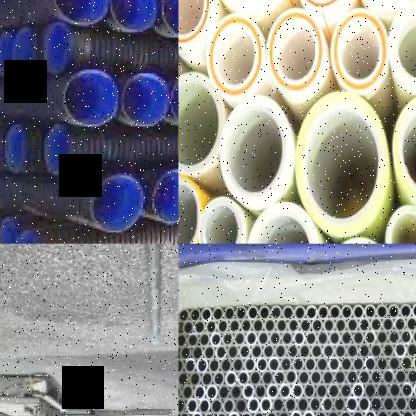pipe: (294, 90, 388, 235), (220, 95, 291, 198), (331, 7, 387, 95), (178, 70, 224, 174), (207, 13, 263, 97), (266, 9, 322, 91), (88, 172, 148, 234), (62, 68, 122, 130), (246, 202, 321, 244), (119, 70, 172, 127), (387, 0, 416, 92), (392, 94, 416, 204), (198, 197, 242, 244), (41, 20, 77, 77), (41, 128, 77, 180), (0, 122, 34, 176), (148, 166, 178, 226), (107, 0, 159, 33), (178, 174, 202, 244), (47, 0, 107, 27), (178, 0, 211, 44), (11, 26, 40, 76), (385, 205, 416, 244), (159, 0, 178, 40), (0, 30, 15, 77), (0, 214, 24, 243), (14, 226, 48, 244), (168, 72, 178, 126), (308, 396, 322, 414), (183, 357, 197, 375), (399, 302, 413, 320), (345, 396, 359, 413), (357, 396, 371, 413), (382, 396, 396, 413), (297, 369, 311, 386), (279, 356, 293, 373), (369, 342, 383, 359), (259, 396, 272, 414), (272, 396, 285, 414), (321, 396, 334, 414), (315, 382, 328, 400), (250, 343, 263, 361), (248, 396, 260, 415), (363, 356, 377, 372), (304, 330, 318, 346), (333, 396, 346, 413), (254, 383, 267, 400), (376, 382, 389, 399), (388, 382, 401, 399), (394, 368, 407, 385), (388, 355, 401, 372), (400, 355, 413, 372), (274, 343, 287, 360), (346, 343, 359, 360), (262, 343, 275, 360), (235, 397, 247, 415), (297, 396, 309, 414), (284, 396, 296, 414), (395, 395, 407, 413), (194, 384, 206, 402), (291, 382, 303, 400), (340, 382, 352, 400), (340, 355, 352, 373), (382, 315, 394, 333), (303, 383, 316, 399), (186, 398, 198, 415), (198, 398, 210, 415), (210, 398, 222, 415), (370, 396, 382, 413), (182, 384, 194, 401), (206, 384, 218, 401), (218, 384, 230, 401), (266, 383, 278, 400), (279, 383, 291, 400), (364, 382, 376, 399), (188, 371, 200, 388), (237, 370, 249, 387), (250, 370, 262, 387), (334, 369, 346, 386), (358, 369, 370, 386), (370, 368, 382, 385), (382, 368, 394, 385), (220, 357, 232, 374), (196, 357, 208, 374), (244, 356, 256, 373), (256, 356, 268, 373), (268, 356, 280, 373), (292, 356, 304, 373), (304, 356, 316, 373), (316, 356, 328, 373), (328, 356, 340, 373), (376, 355, 388, 372), (192, 345, 204, 362), (227, 344, 239, 361), (238, 344, 250, 361), (286, 343, 298, 360), (299, 343, 311, 360), (310, 343, 322, 360), (358, 343, 370, 360), (186, 332, 198, 349), (210, 331, 222, 348), (222, 331, 234, 348), (258, 330, 270, 347), (270, 330, 282, 347), (281, 330, 293, 347), (294, 330, 306, 347), (316, 330, 328, 347), (376, 329, 388, 346), (388, 329, 400, 346), (311, 317, 323, 334), (370, 316, 382, 333), (190, 306, 202, 323), (294, 305, 306, 322), (258, 305, 270, 322), (235, 305, 247, 322), (317, 304, 329, 321), (340, 304, 352, 321), (352, 304, 364, 321), (388, 303, 400, 320), (376, 303, 388, 320), (243, 383, 254, 401), (230, 384, 242, 400), (328, 383, 340, 399), (352, 383, 364, 399), (401, 382, 413, 398), (201, 371, 213, 387), (212, 371, 224, 387), (225, 371, 237, 387), (261, 370, 273, 386), (274, 370, 286, 386), (310, 370, 322, 386), (322, 370, 334, 386), (285, 370, 297, 386), (232, 357, 244, 373), (352, 356, 364, 372), (203, 345, 215, 361), (216, 345, 228, 361), (382, 342, 394, 358), (394, 342, 406, 358), (198, 332, 210, 348), (340, 330, 352, 346), (352, 330, 364, 346), (364, 330, 376, 346), (182, 320, 194, 336), (194, 320, 206, 336), (205, 319, 217, 335), (252, 318, 264, 334), (288, 318, 300, 334), (217, 318, 229, 334), (240, 318, 252, 334), (323, 318, 335, 334), (264, 318, 276, 334), (276, 318, 288, 334), (300, 318, 312, 334), (200, 307, 212, 323), (212, 306, 224, 322), (224, 305, 236, 321), (248, 305, 260, 321), (282, 305, 294, 321), (329, 305, 341, 321), (364, 304, 376, 320), (223, 398, 234, 415), (347, 369, 358, 386), (208, 357, 219, 374), (323, 343, 334, 360), (335, 343, 346, 360), (229, 318, 240, 335), (347, 317, 358, 334), (359, 317, 370, 334), (394, 315, 405, 332), (271, 304, 282, 321), (178, 370, 188, 388), (246, 331, 258, 346), (180, 345, 191, 361), (234, 331, 245, 347), (401, 329, 412, 345), (335, 318, 346, 334), (306, 305, 317, 321), (406, 341, 416, 358), (178, 308, 190, 322), (330, 330, 340, 346), (406, 315, 416, 331), (178, 397, 186, 415), (407, 368, 416, 384), (178, 331, 186, 349), (408, 395, 416, 412), (388, 409, 402, 416), (178, 357, 184, 373), (401, 409, 414, 416), (411, 302, 416, 319), (338, 410, 352, 416), (376, 409, 388, 416), (264, 410, 277, 416), (314, 410, 327, 416), (351, 410, 364, 416), (363, 410, 376, 416), (252, 410, 264, 416), (302, 410, 314, 416), (326, 410, 338, 416), (178, 383, 182, 401), (412, 354, 416, 371), (412, 328, 416, 345), (278, 410, 289, 416), (290, 410, 301, 416), (190, 411, 203, 416), (203, 411, 215, 416), (178, 411, 190, 416), (216, 411, 228, 416), (228, 411, 239, 416), (240, 411, 251, 416), (413, 381, 416, 399), (414, 409, 416, 416)
